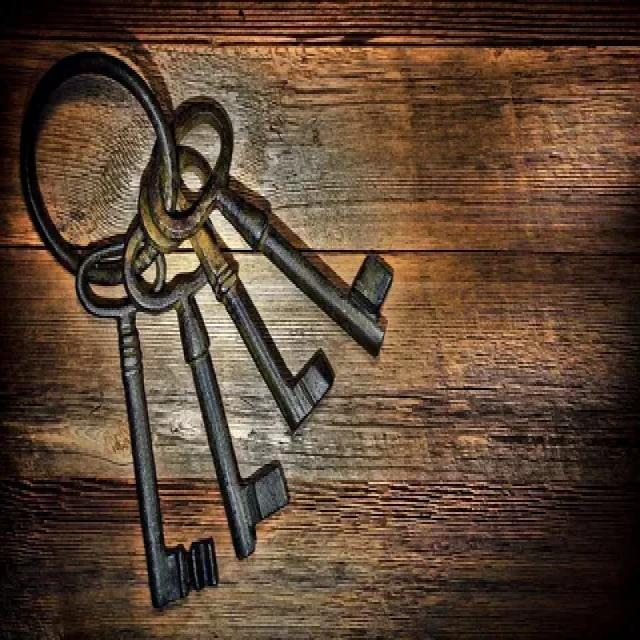key: (73, 211, 220, 626)
